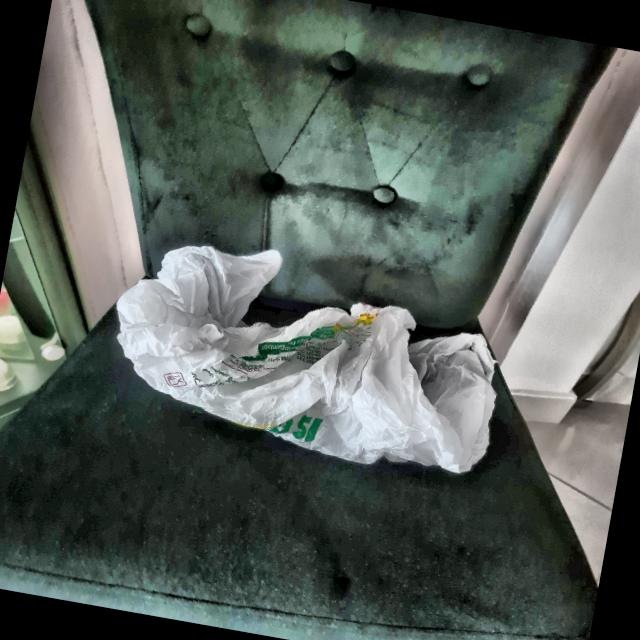plastic bag: (93, 219, 532, 483)
